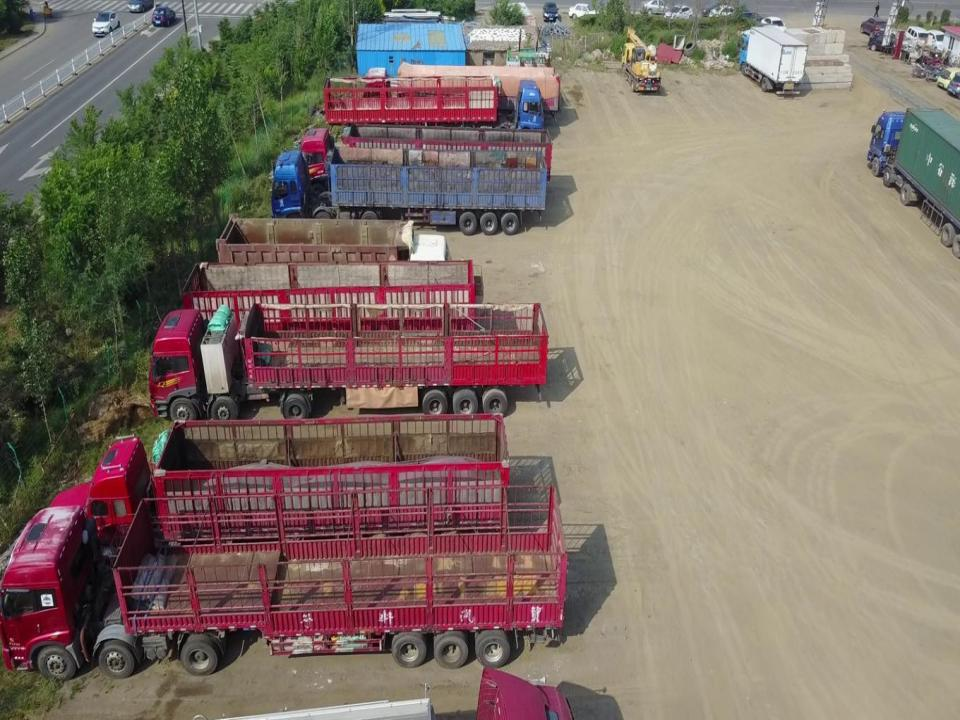car: (90, 1, 118, 37), (756, 10, 788, 34), (905, 21, 930, 50), (857, 12, 889, 33), (564, 0, 597, 20), (866, 32, 897, 53), (926, 24, 948, 52), (938, 63, 960, 89), (149, 5, 177, 25), (667, 2, 697, 19), (541, 0, 561, 22), (707, 4, 741, 16), (644, 0, 668, 13), (123, 0, 145, 11)
truck: (0, 502, 586, 664), (45, 414, 530, 522), (135, 305, 554, 418), (265, 144, 547, 235), (176, 251, 488, 324), (208, 206, 460, 282), (296, 120, 555, 184), (867, 92, 960, 259), (314, 71, 550, 129), (359, 60, 564, 111), (738, 23, 813, 100), (618, 27, 664, 98)
